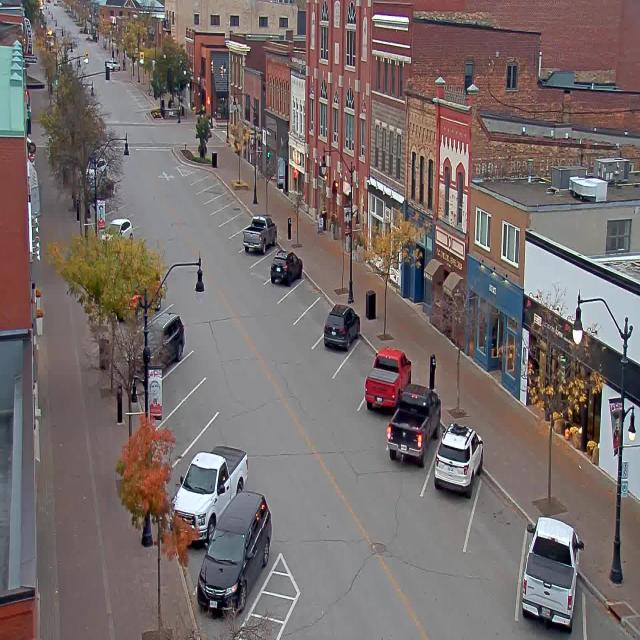available: (461, 478, 528, 573), (148, 340, 227, 390), (163, 373, 233, 424), (171, 406, 242, 444), (581, 594, 640, 639), (332, 343, 373, 402), (281, 281, 321, 312), (295, 307, 332, 338), (250, 252, 274, 286), (222, 211, 252, 233), (202, 192, 238, 208), (214, 202, 244, 218), (196, 183, 229, 196), (184, 166, 212, 179), (190, 173, 218, 185)
occupied: (196, 490, 272, 616), (170, 444, 248, 548), (521, 515, 584, 631), (386, 382, 441, 467), (434, 421, 484, 498), (364, 345, 412, 412), (142, 305, 185, 367), (323, 303, 360, 351), (242, 214, 277, 254), (270, 249, 303, 286)
